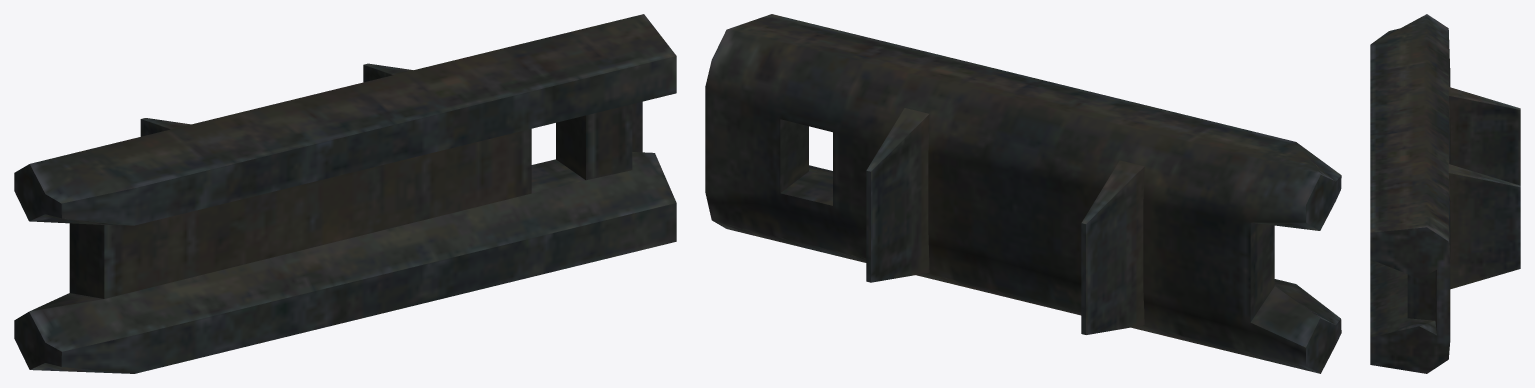
The picture shows the model from 3 angles, left to right: view 1: azimuth 30°, elevation 25°; view 2: azimuth 150°, elevation 25°; view 3: azimuth 270°, elevation 25°; orthographic projection. The views are drawn at different scales.
Parts seen in each view (by area): view 1: set_0_group_0; view 2: set_0_group_0; view 3: set_0_group_0.
Part boxes in pixels (<box>): set_0_group_0: <box>14,14,676,373</box>; set_0_group_0: <box>705,14,1341,373</box>; set_0_group_0: <box>1370,14,1520,373</box>.
Size of the model in its own units: 0.6601 by 0.2097 by 0.1945.
1 material, 1 textured.
